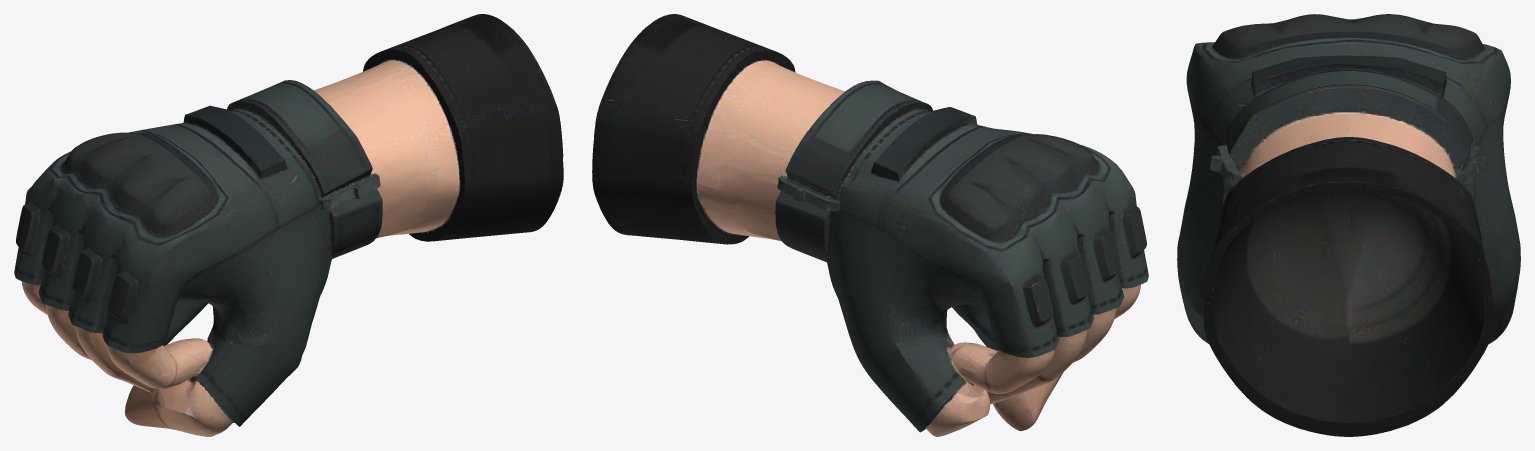
File: vm-hands.glb
3 renders of one model, left to right at view 1: azimuth 30°, elevation 25°; view 2: azimuth 150°, elevation 25°; view 3: azimuth 270°, elevation 25°, orthographic. The views are drawn at different scales.
Bounding box in the file's own units: 1.9 × 1.26 × 0.9935.
Materials: 1 (1 with a texture image).
